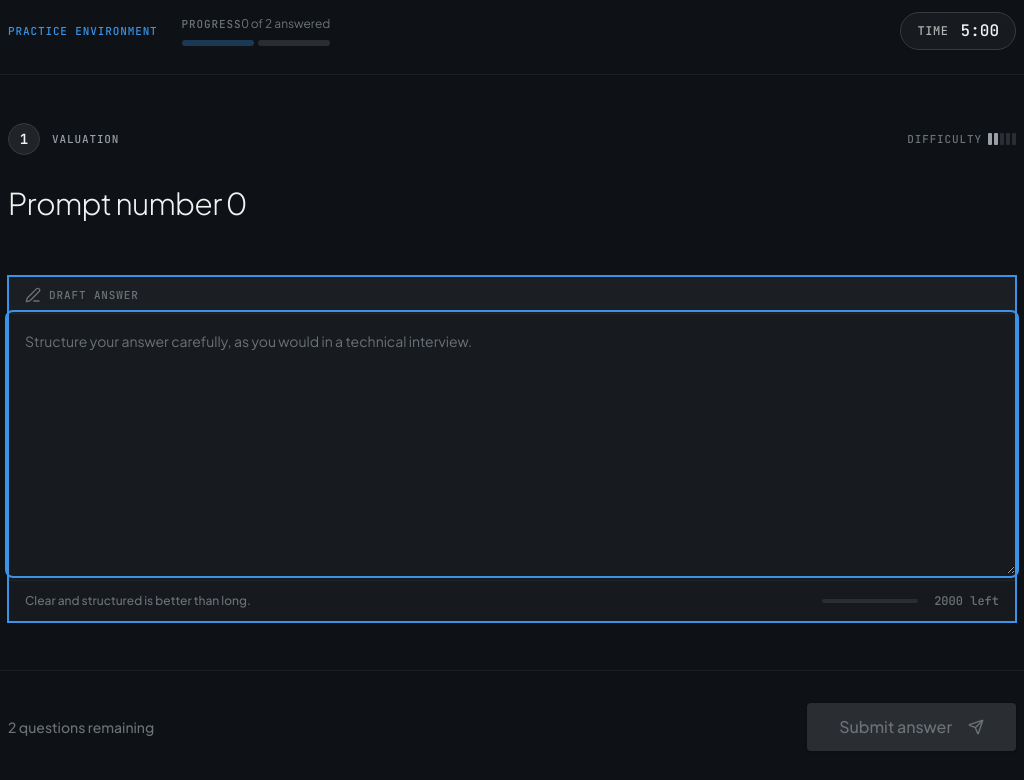
PracticeRunner › reports a grading failure without inventing a score
The width and height of the screenshot is (1024, 780).
Replace the text in the text box labelled "your answer" with "Subtract net debt from enterprise value and add back cash equivalents." at (512, 444), box top-left (9, 314), bottom-right (1015, 574)
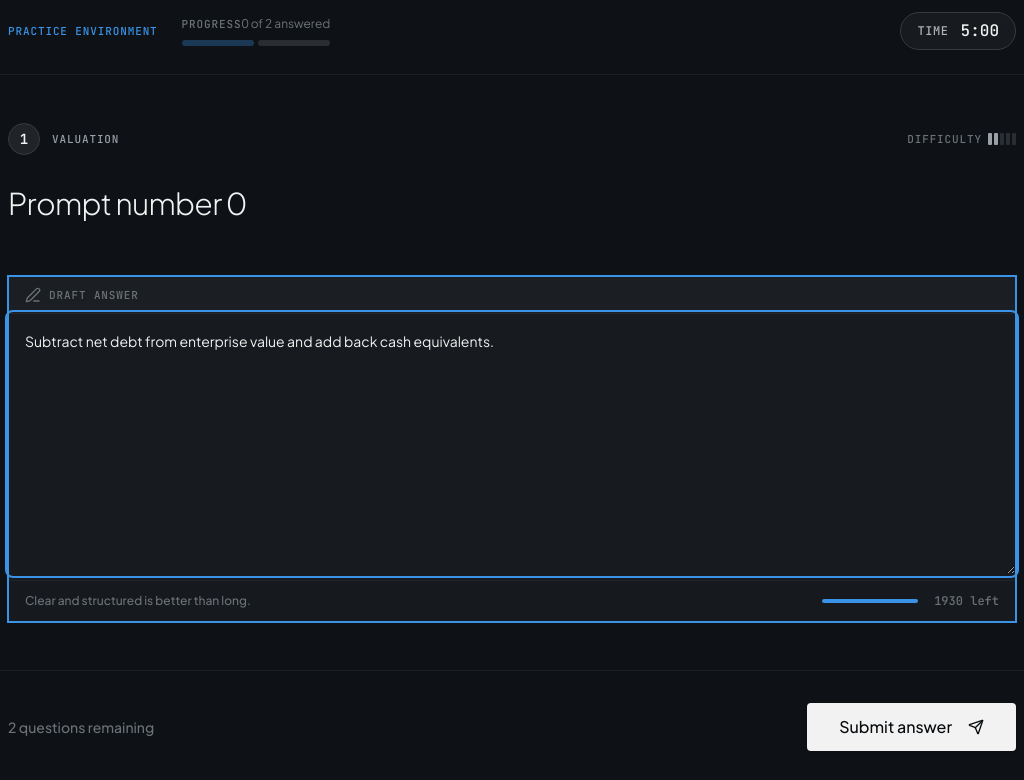
Click the button "Submit answer".
click(912, 727)  # box top-left (807, 703), bottom-right (1016, 751)
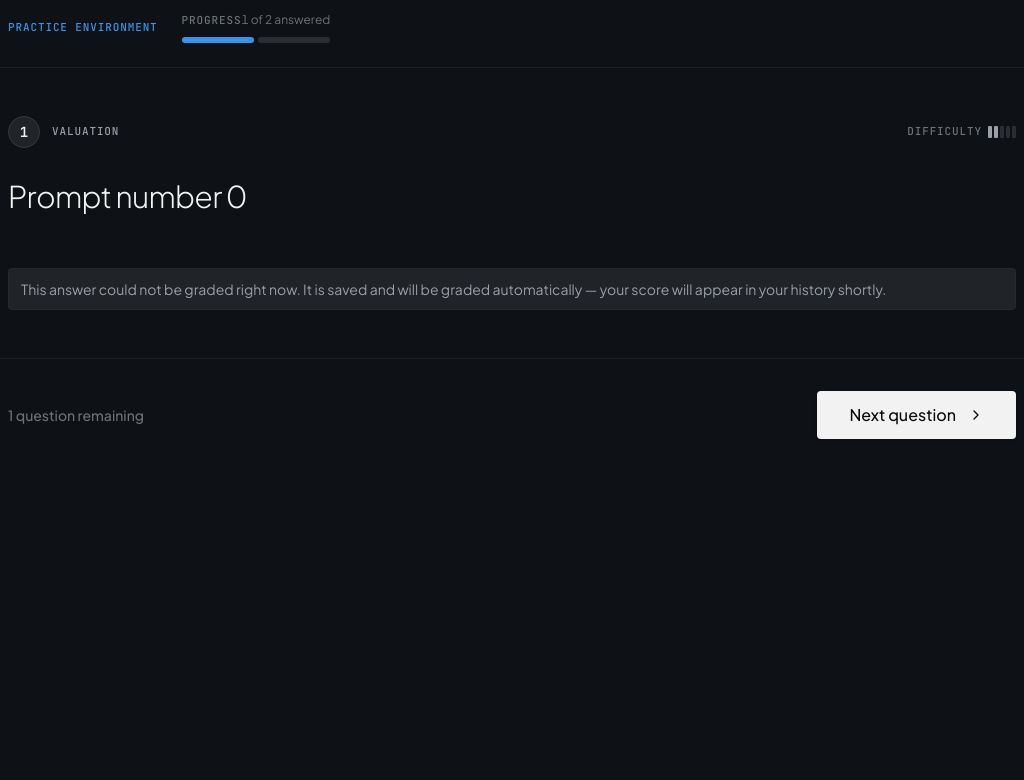
Expected: the text "could not be graded" is shown, top-left (21, 280), bottom-right (886, 298)
